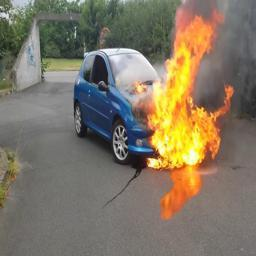fire: (138, 2, 234, 167)
